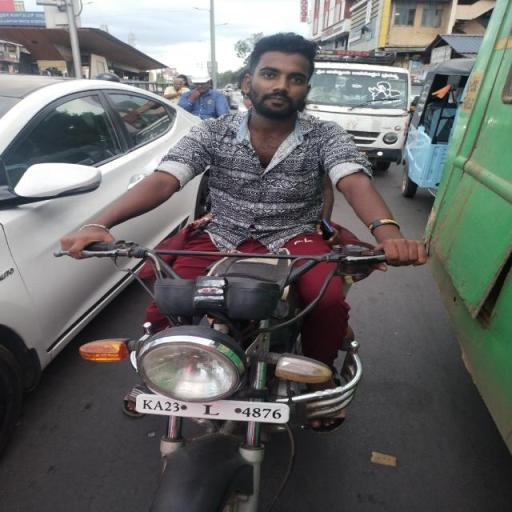bike: (50, 30, 438, 512)
numberplate: (130, 392, 295, 434)
withouthelmet: (249, 36, 313, 114)
